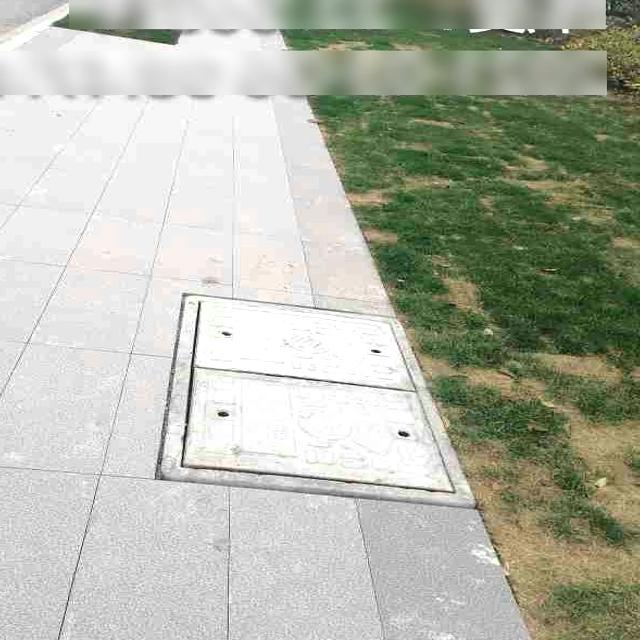good: (158, 310, 484, 511)
